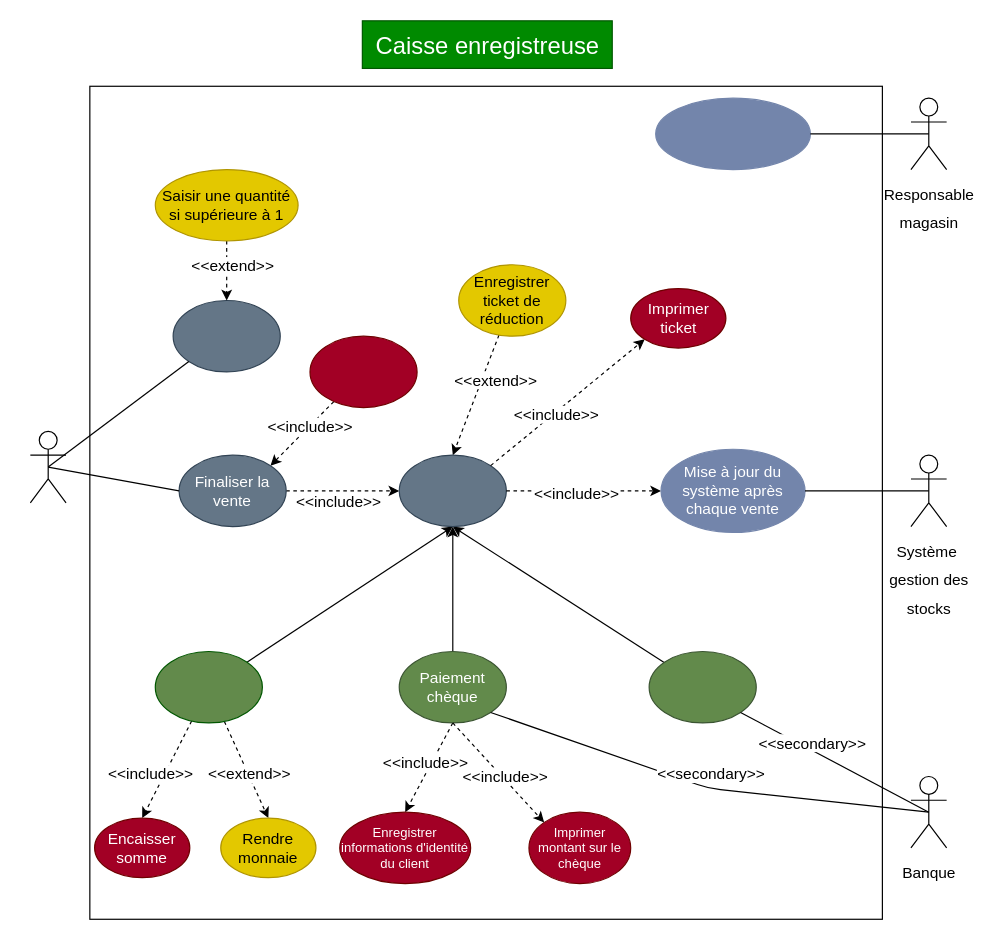
This 995x940 diagram has some shape labels left out. The centre of each missing label's shape, as x and y in pixels:
Afficher total des achats: pixel 363 371
Caissier: pixel 47 466
Enregistrer des articles: pixel 226 335
Initialiser les caisses quotidiennement: pixel 732 133
Paiement CB: pixel 702 686
Paiement liquide: pixel 208 686
Valider paiement: pixel 452 490
